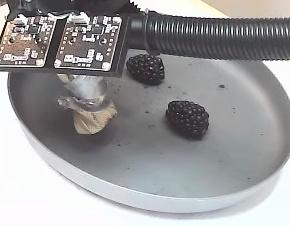berry: (166, 101, 208, 139), (126, 54, 163, 85)
